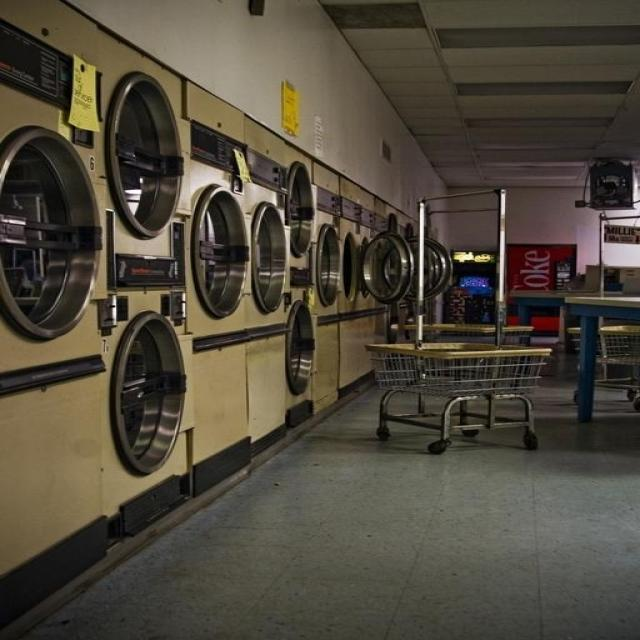E-waste: (0, 0, 371, 587)
Metal: (368, 162, 636, 464)
